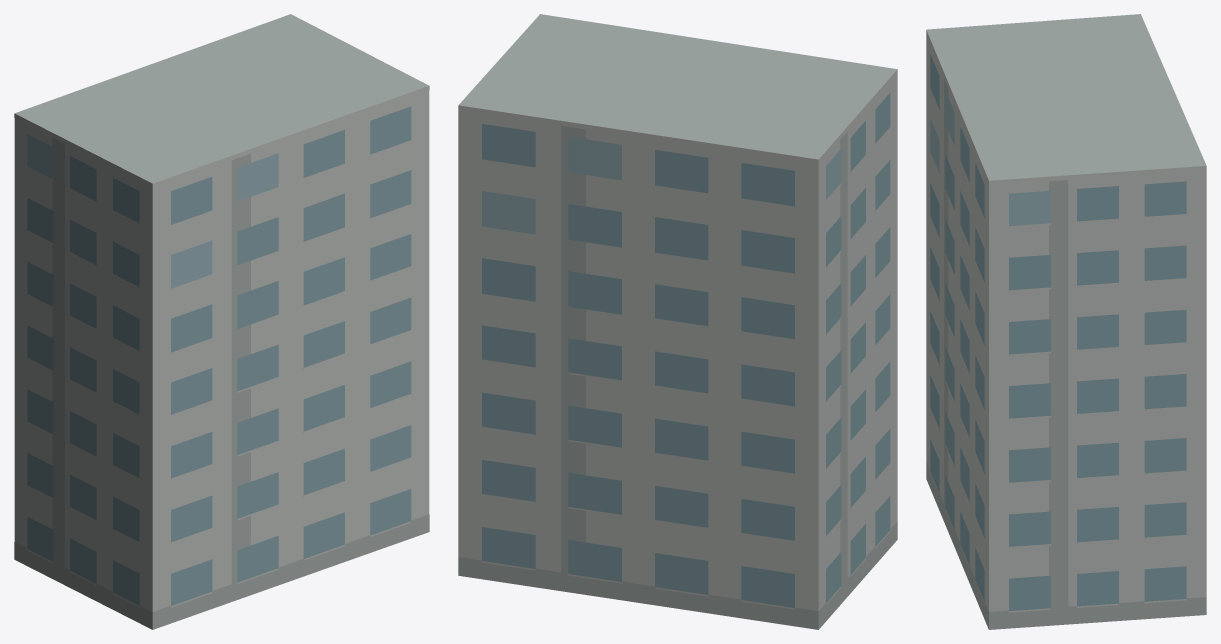
File: survey-upis-32767803.glb
The picture shows the model from 3 angles, left to right: view 1: azimuth 30°, elevation 25°; view 2: azimuth 150°, elevation 25°; view 3: azimuth 270°, elevation 25°; orthographic projection. The views are drawn at different scales.
Visible parts, largest first — view 1: survey-upis-32767803.tmp; view 2: survey-upis-32767803.tmp; view 3: survey-upis-32767803.tmp.
Boxes of the visible parts, <box> form: survey-upis-32767803.tmp: <box>14,14,429,629</box>; survey-upis-32767803.tmp: <box>458,14,897,629</box>; survey-upis-32767803.tmp: <box>926,14,1206,629</box>.
Bounding box in the file's own units: 18.96 × 23.8 × 13.48.
